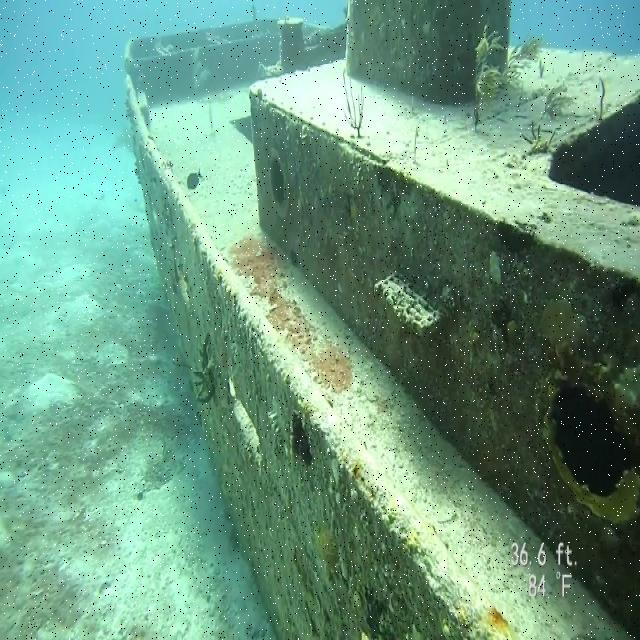wrecks-ruins: (124, 0, 639, 639)
